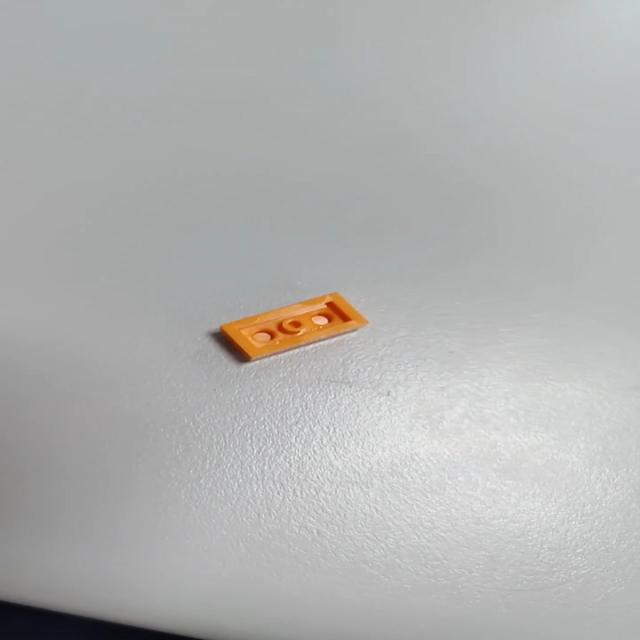C2x1x0: (209, 287, 375, 365)
